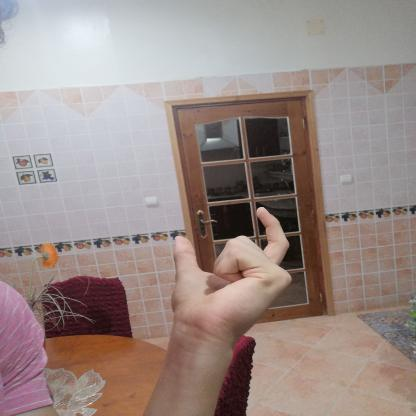NOON: (152, 194, 309, 353)
